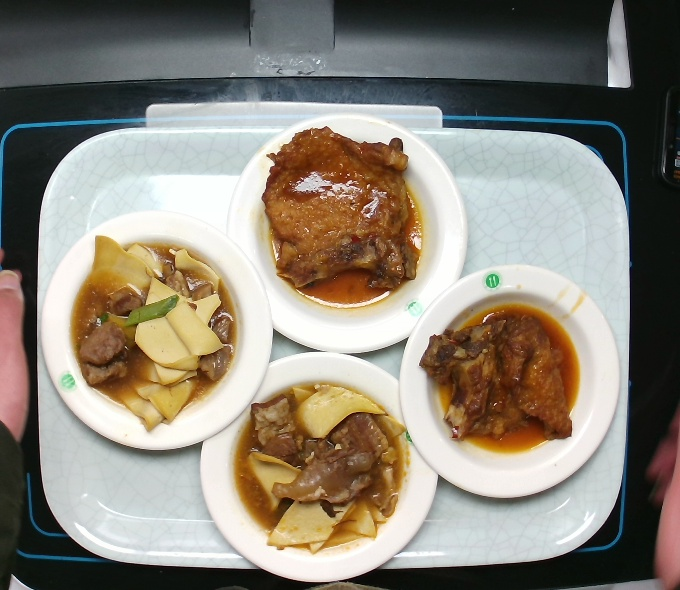wcq-DaPai: (256, 121, 431, 315), (414, 295, 590, 459)
wcq-QianZhangNiuRou: (61, 231, 241, 437), (227, 374, 411, 557)
